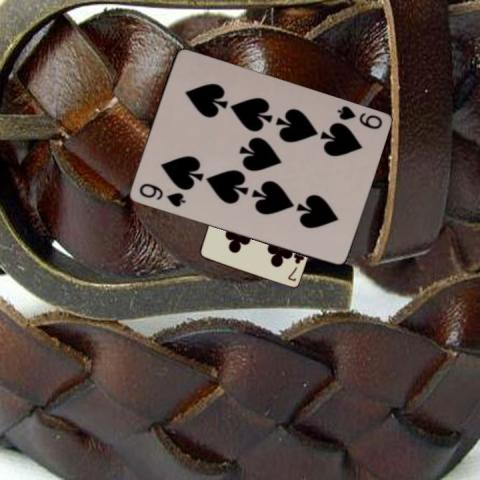7c: (285, 249, 305, 282)
9s: (135, 180, 187, 209), (333, 103, 384, 131)
